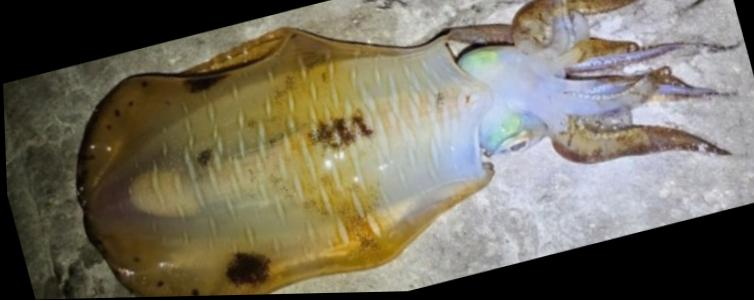Cephalopod: (76, 0, 730, 298)
